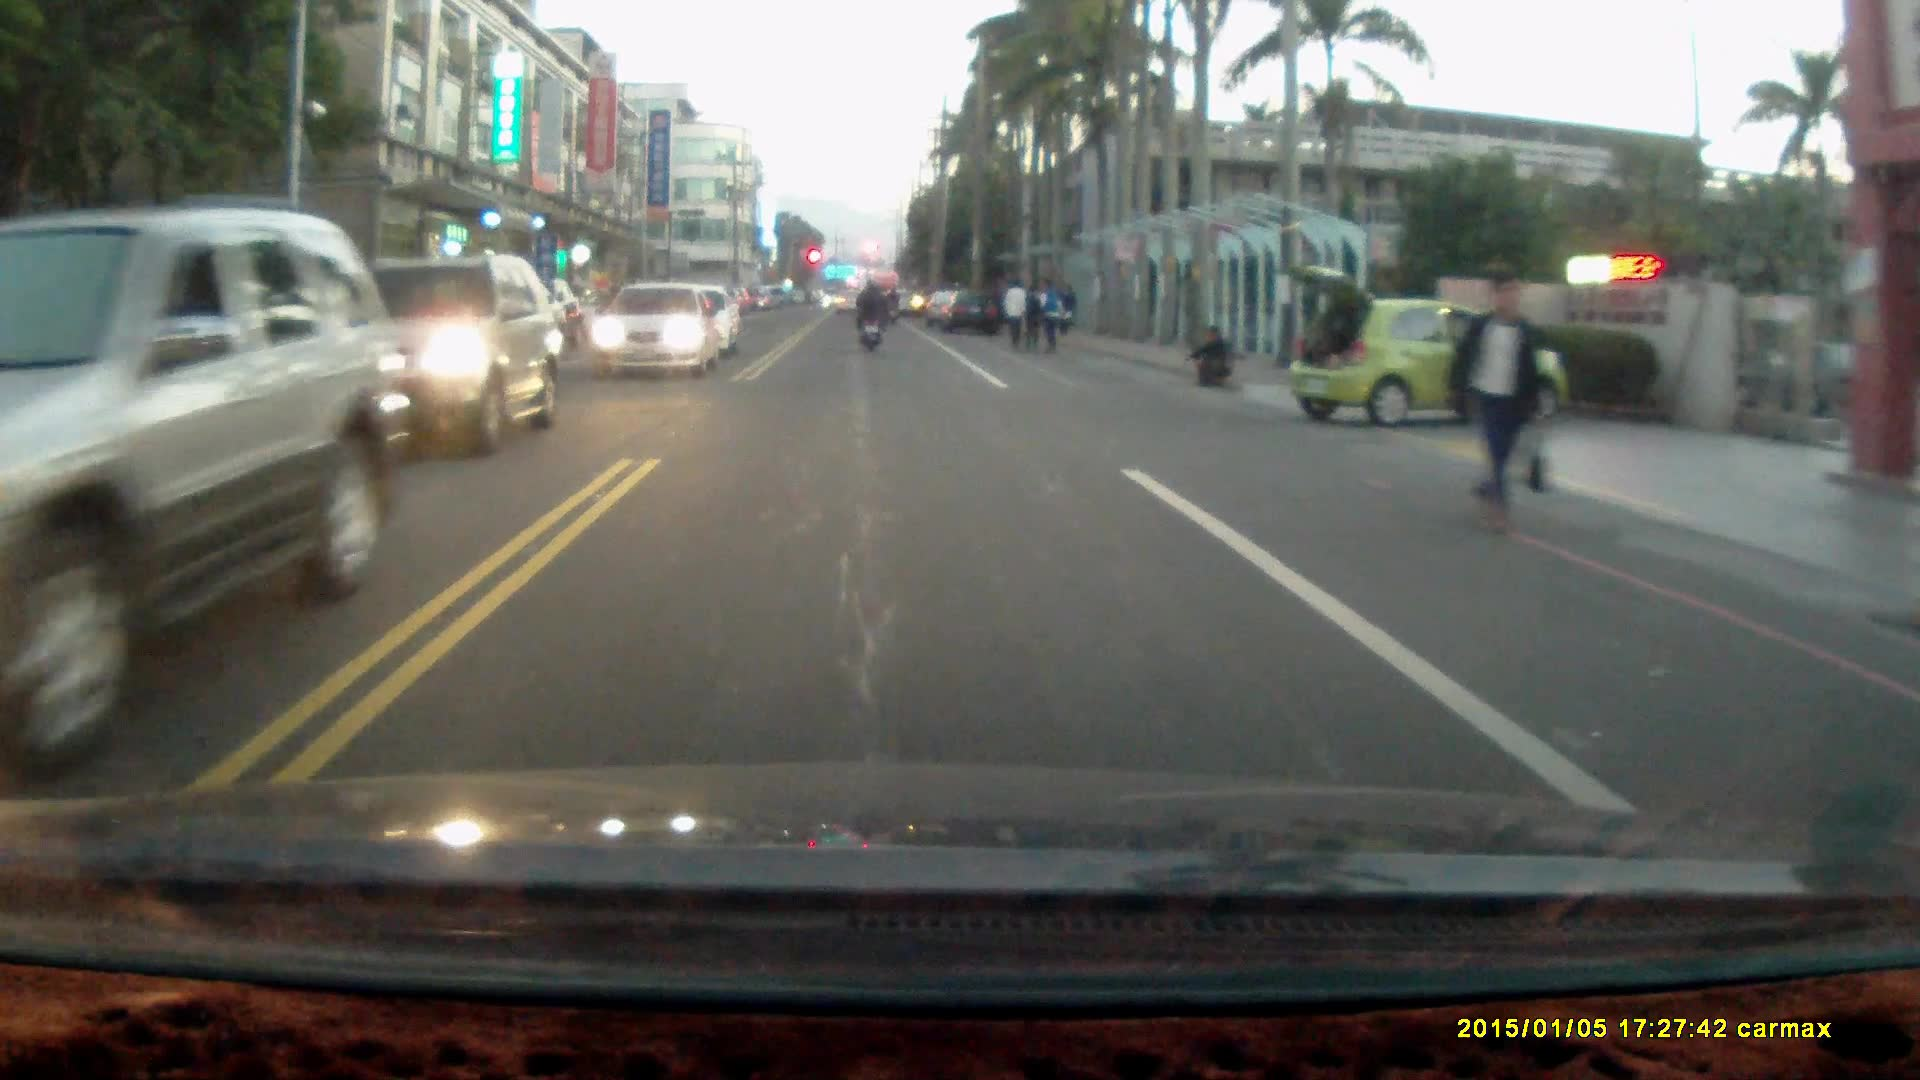pedestrian: (1442, 266, 1551, 536), (1190, 324, 1235, 391), (1035, 277, 1067, 352), (1003, 279, 1028, 358), (1020, 283, 1045, 355)
rider: (852, 277, 888, 352)
vehicle: (1, 203, 407, 807), (286, 254, 565, 462), (1286, 264, 1545, 429), (590, 282, 718, 379), (942, 283, 1001, 334)
